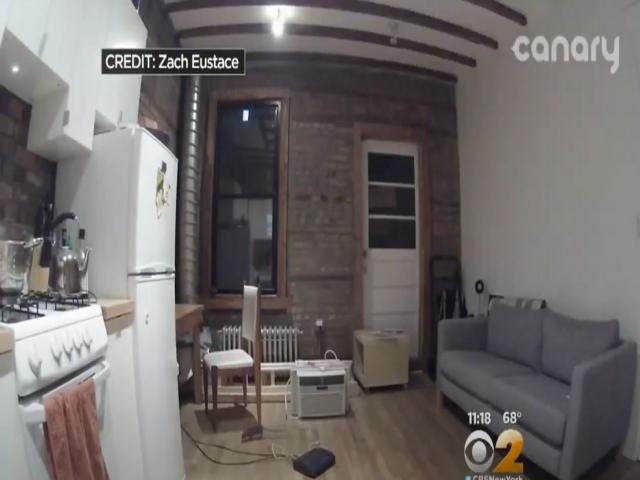Tikus: (238, 419, 286, 445)
